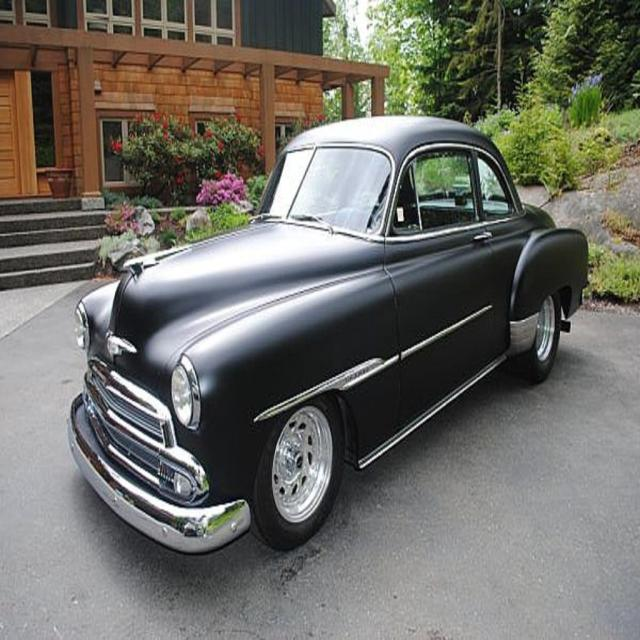car: (61, 113, 590, 551)
